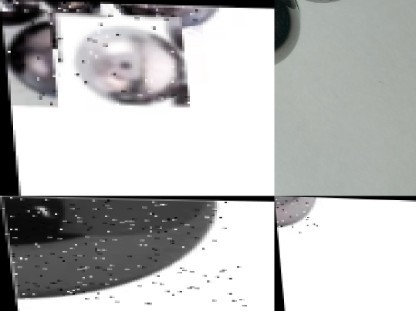ironball: (0, 196, 245, 307), (53, 12, 187, 106), (0, 11, 55, 106), (121, 2, 233, 26), (15, 0, 84, 35), (274, 196, 320, 235)
